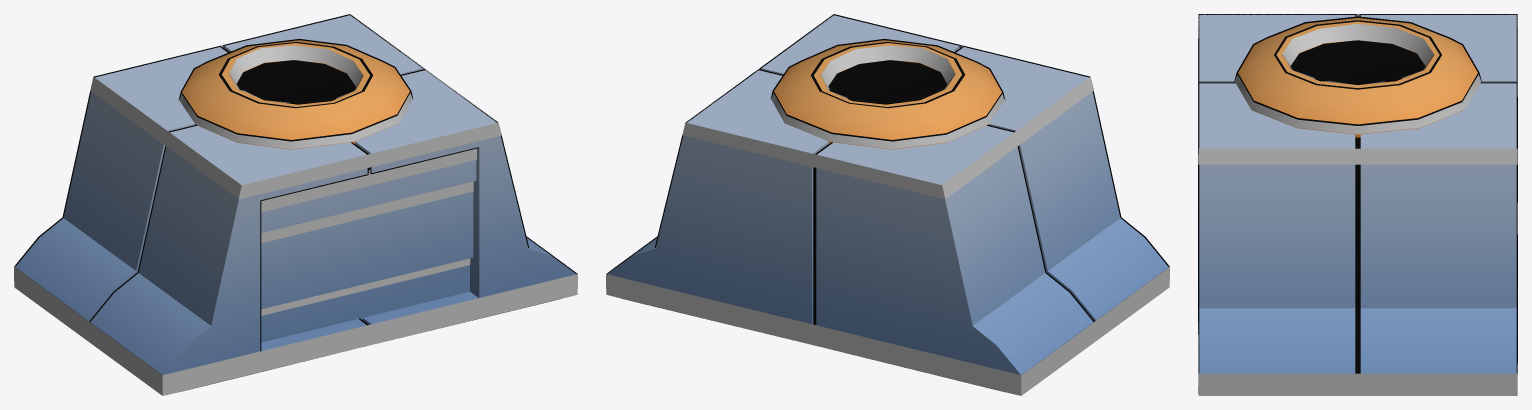
File: Rooms_Paradise_SciFi_Battery_Art.fbx
The picture shows the model from 3 angles, left to right: view 1: azimuth 30°, elevation 25°; view 2: azimuth 150°, elevation 25°; view 3: azimuth 270°, elevation 25°; orthographic projection. The views are drawn at different scales.
Parts seen in each view (by area): view 1: Rooms_Paradise_SciFi_Battery_Art, Rooms_Paradise_SciFi_Battery_Shadows.002, Rooms_Paradise_SciFi_Battery_Outliner.002; view 2: Rooms_Paradise_SciFi_Battery_Art, Rooms_Paradise_SciFi_Battery_Shadows.002, Rooms_Paradise_SciFi_Battery_Outliner.002; view 3: Rooms_Paradise_SciFi_Battery_Art, Rooms_Paradise_SciFi_Battery_Shadows.002, Rooms_Paradise_SciFi_Battery_Outliner.002.
Part boxes in pixels (<box>): Rooms_Paradise_SciFi_Battery_Art: <box>15,15,576,375</box>; Rooms_Paradise_SciFi_Battery_Shadows.002: <box>14,14,577,395</box>; Rooms_Paradise_SciFi_Battery_Outliner.002: <box>14,14,577,392</box>; Rooms_Paradise_SciFi_Battery_Art: <box>607,15,1168,375</box>; Rooms_Paradise_SciFi_Battery_Shadows.002: <box>606,15,1169,395</box>; Rooms_Paradise_SciFi_Battery_Outliner.002: <box>606,14,1169,392</box>; Rooms_Paradise_SciFi_Battery_Art: <box>1199,15,1516,373</box>; Rooms_Paradise_SciFi_Battery_Shadows.002: <box>1198,14,1517,395</box>; Rooms_Paradise_SciFi_Battery_Outliner.002: <box>1198,14,1517,393</box>.
Bounding box in the file's own units: 145 × 72.34 × 89.75.
